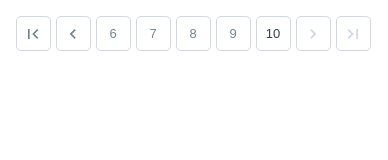
<Pagination/> › click prevButton to activate lastPageButton
expect the button with test id "last-page-button" is disabled: met, box [336,16,370,51]
Step 1. Click the button with test id "prev-button" → (73, 34), box [56,16,90,51]
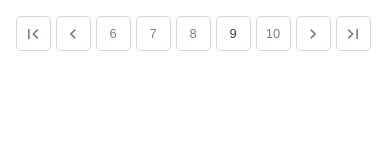
expect the button with test id "last-page-button" is enabled: met, box [336,16,370,51]
